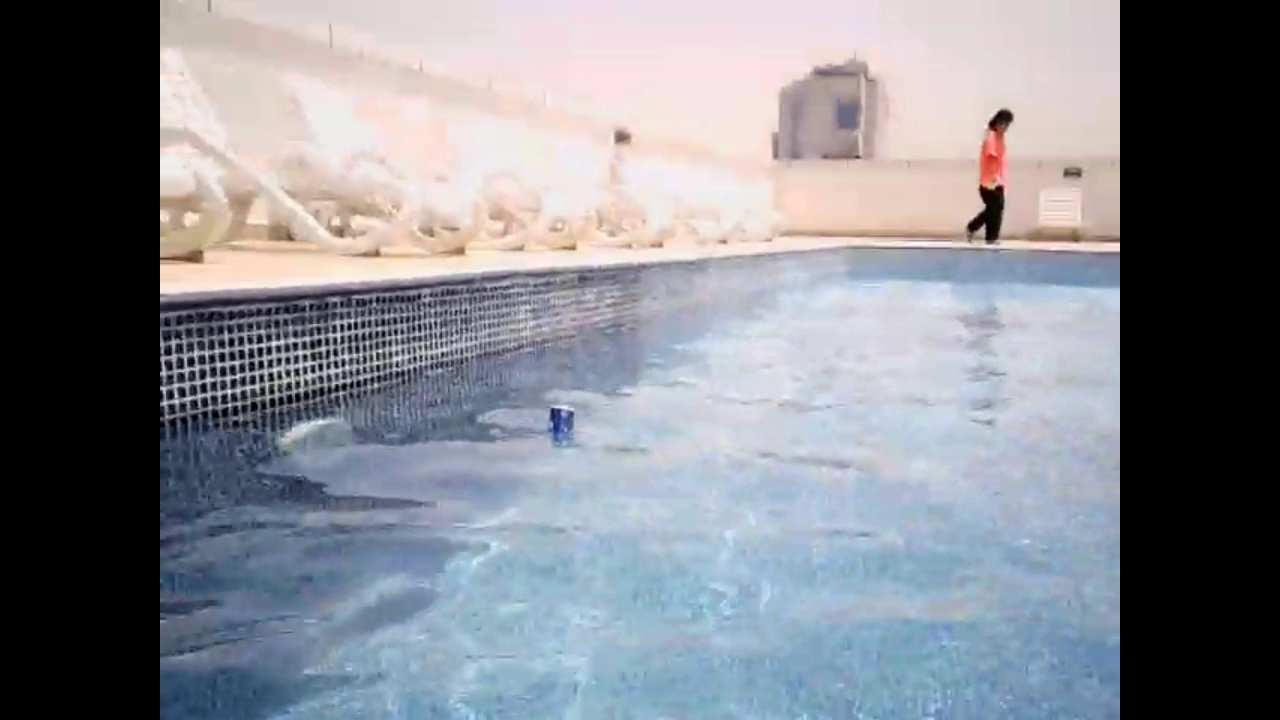debris: (540, 399, 578, 451)
